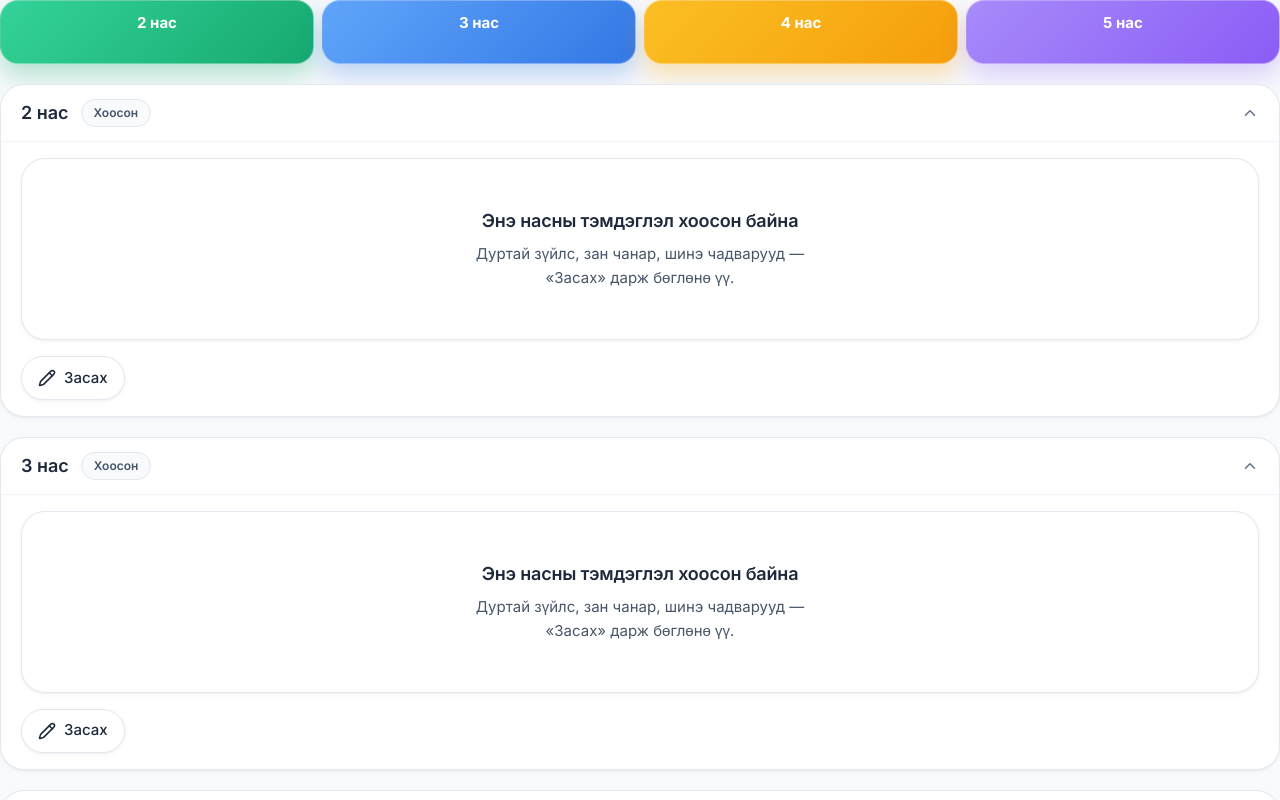
Test: RFP §4.3 completeness › offers every stored age-profile field to a teacher
expect the element "3 нас" is shown: met, box left=0, top=437, right=1279, bottom=770
Click the 2nd button "Засах".
click(73, 730)  # box left=21, top=708, right=125, bottom=752
(page scrolled)
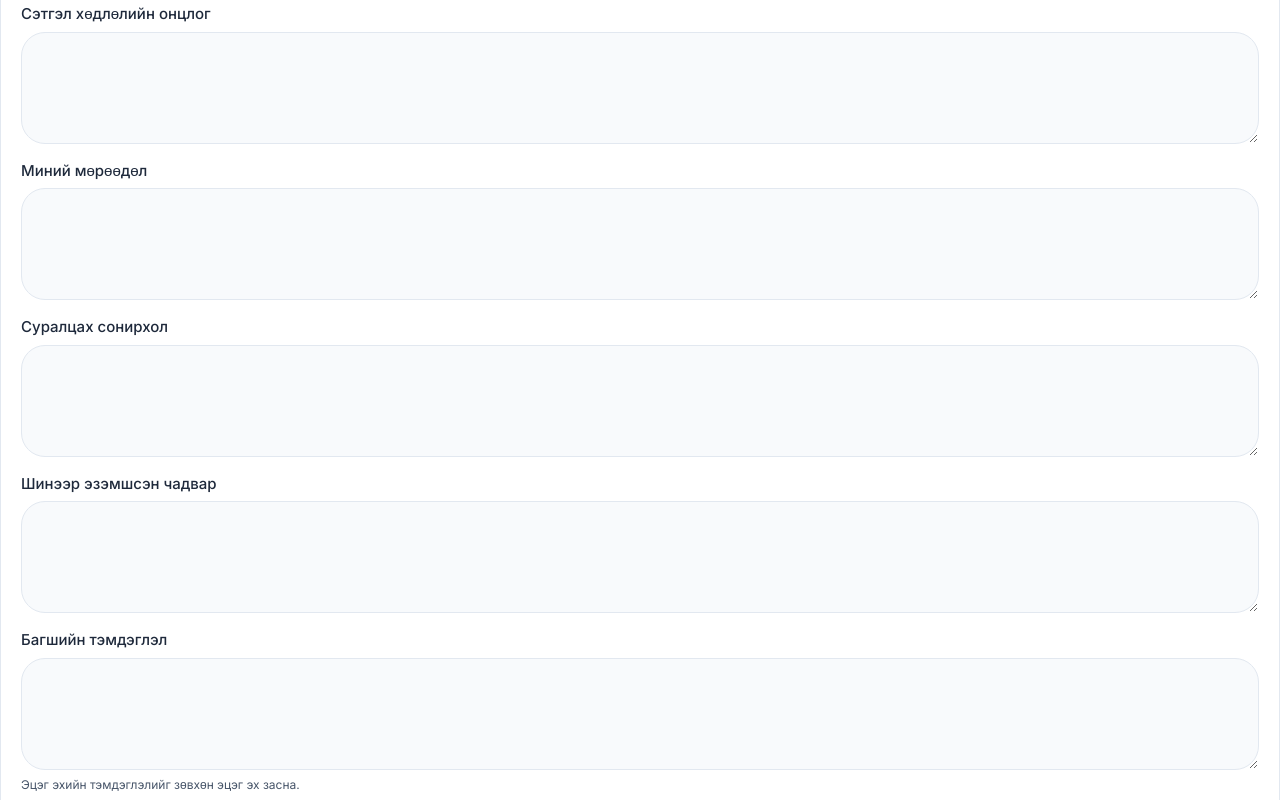
expect the text box labelled "Сэтгэл хөдлөлийн онцлог" is shown: met, box left=21, top=32, right=1259, bottom=144
expect the text box labelled "Суралцах сонирхол" is shown: met, box left=21, top=345, right=1259, bottom=457
